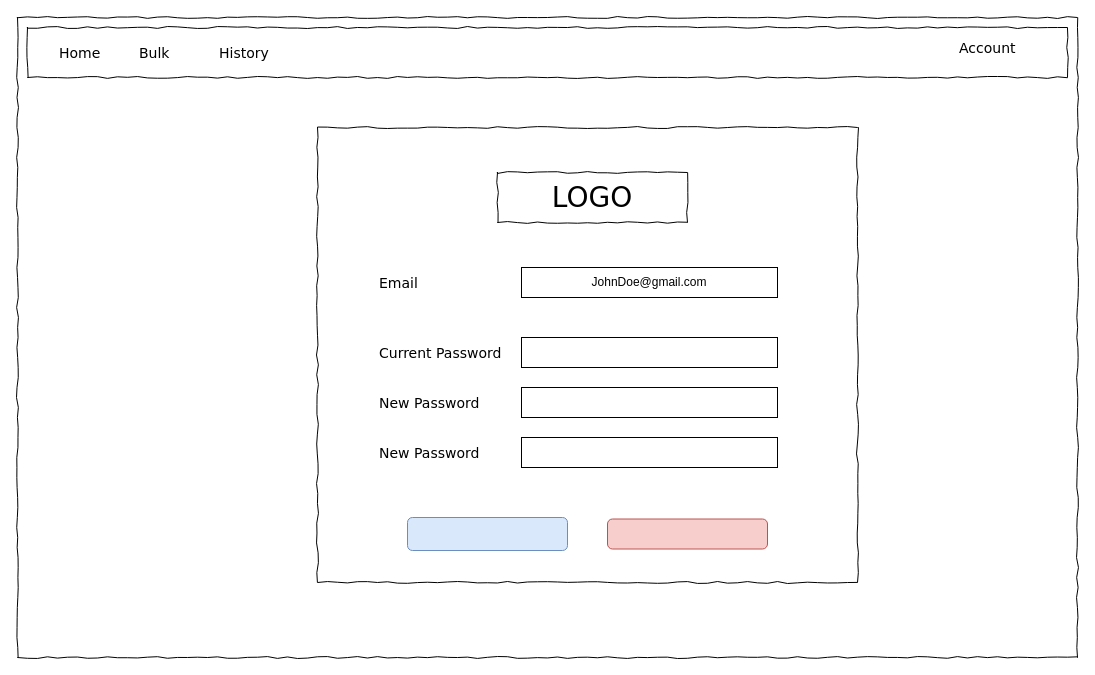
Some shapes in this 1095 by 675 pixel diagram are drawn without their labels. The shapes that lost their labels are listed below. From the top down, each one's centre as x and y in pixels, then its label:
point 487,533: Change Password
point 687,533: Delete
